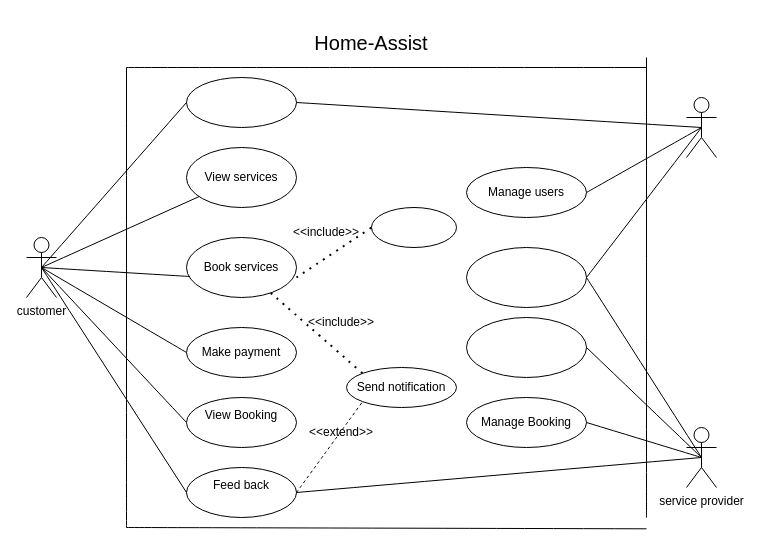
Some shapes in this 761 by 546 pixel diagram are drawn without their labels. Each missing label, with the box of its shape:
(Register/login): (186, 76, 296, 128)
admin: (686, 96, 716, 158)
Manage services: (466, 316, 586, 378)
Verification: (466, 246, 586, 308)
Verify user: (370, 206, 456, 248)
